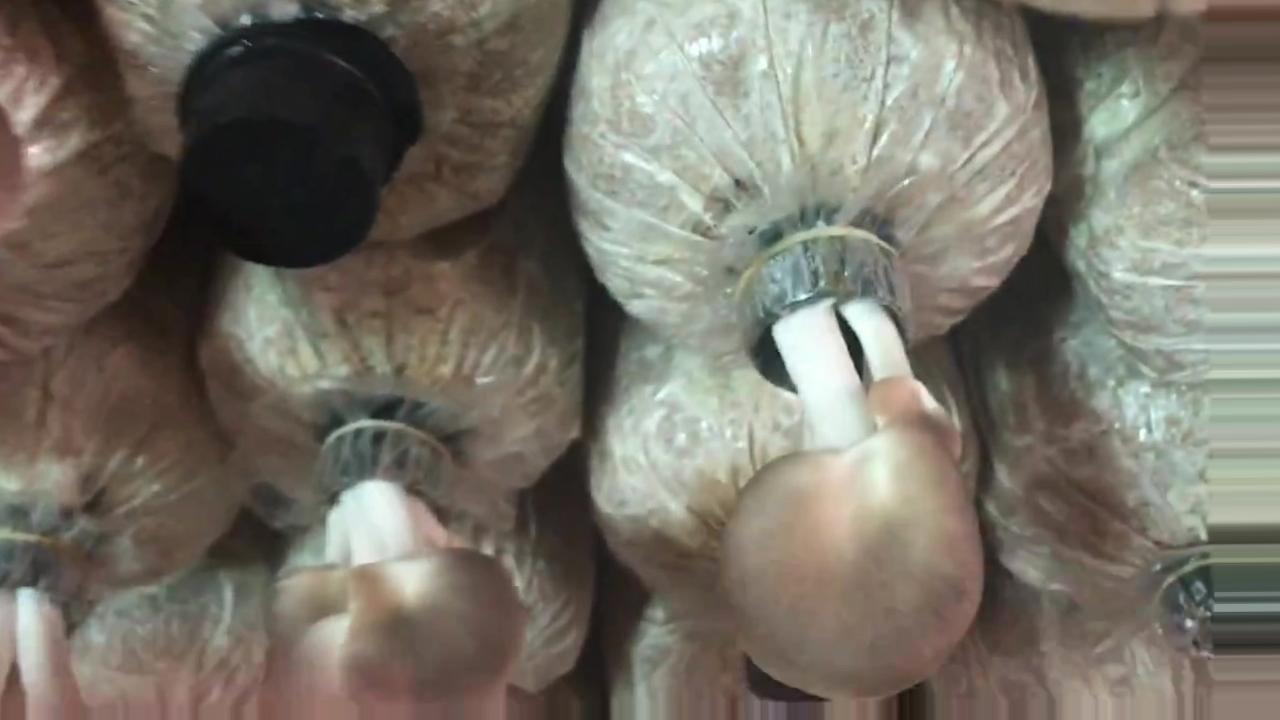nam: (728, 232, 983, 703), (271, 423, 527, 719)
